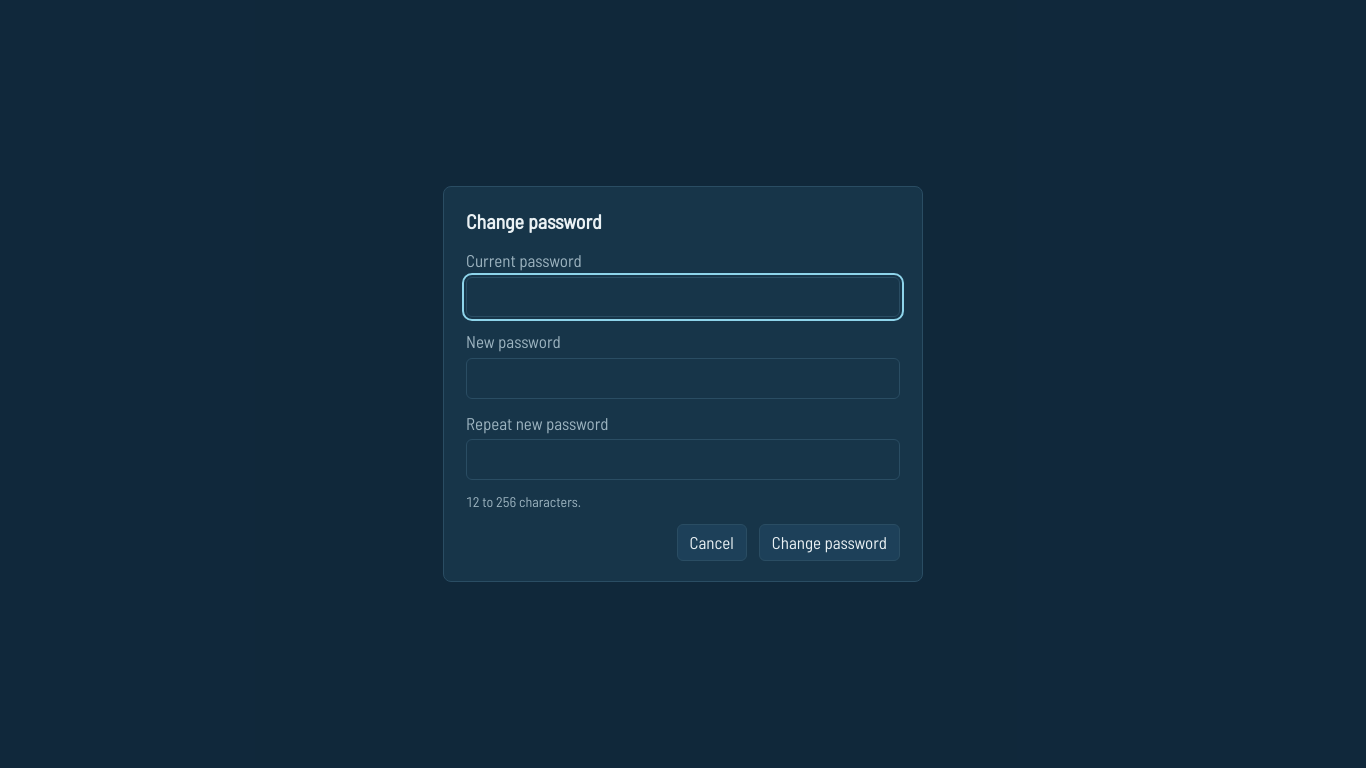
Test: PasswordDialog › refuses two passwords that differ without a request
Type "old-password" into the password field labelled "Current password" at (683, 297), box [466,277,900,317]
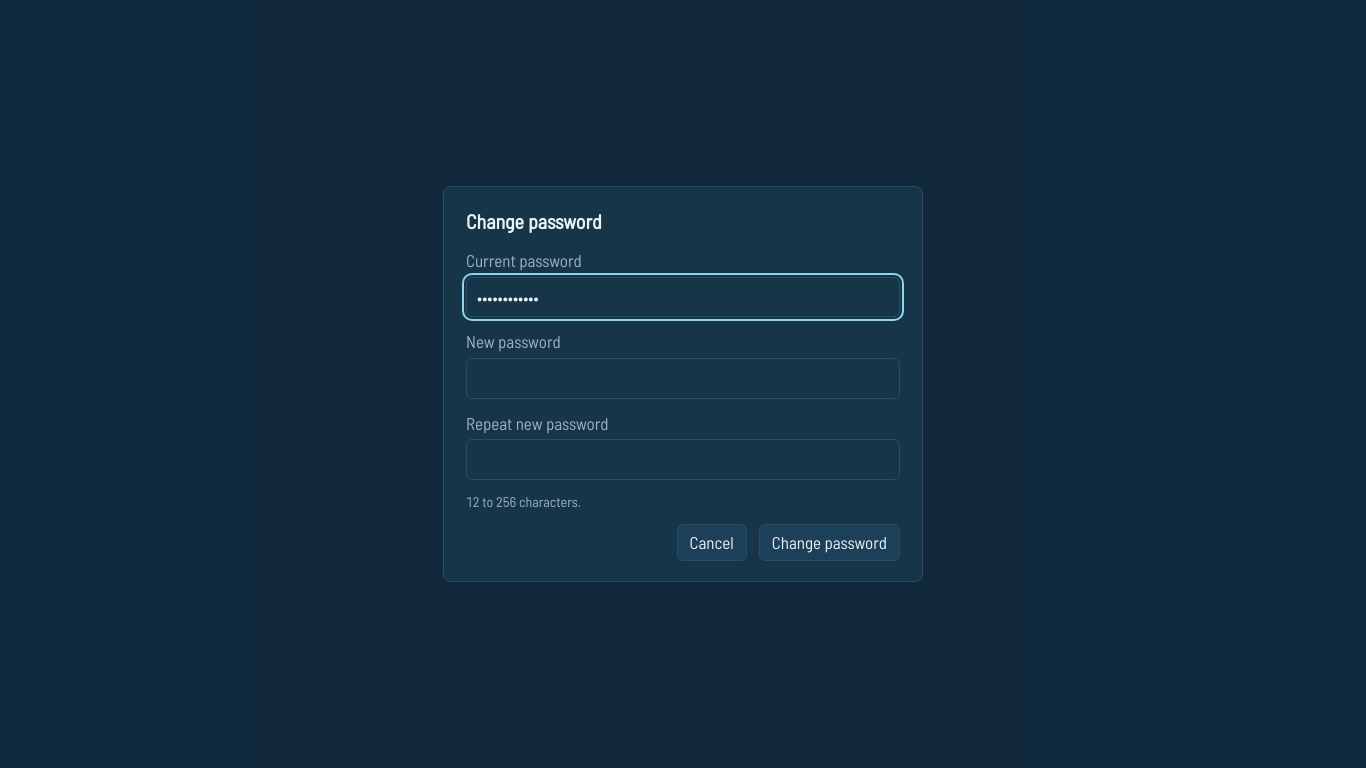
Type "a-long-new-password" into the password field labelled "New password" at (683, 378), box [466,358,900,399]
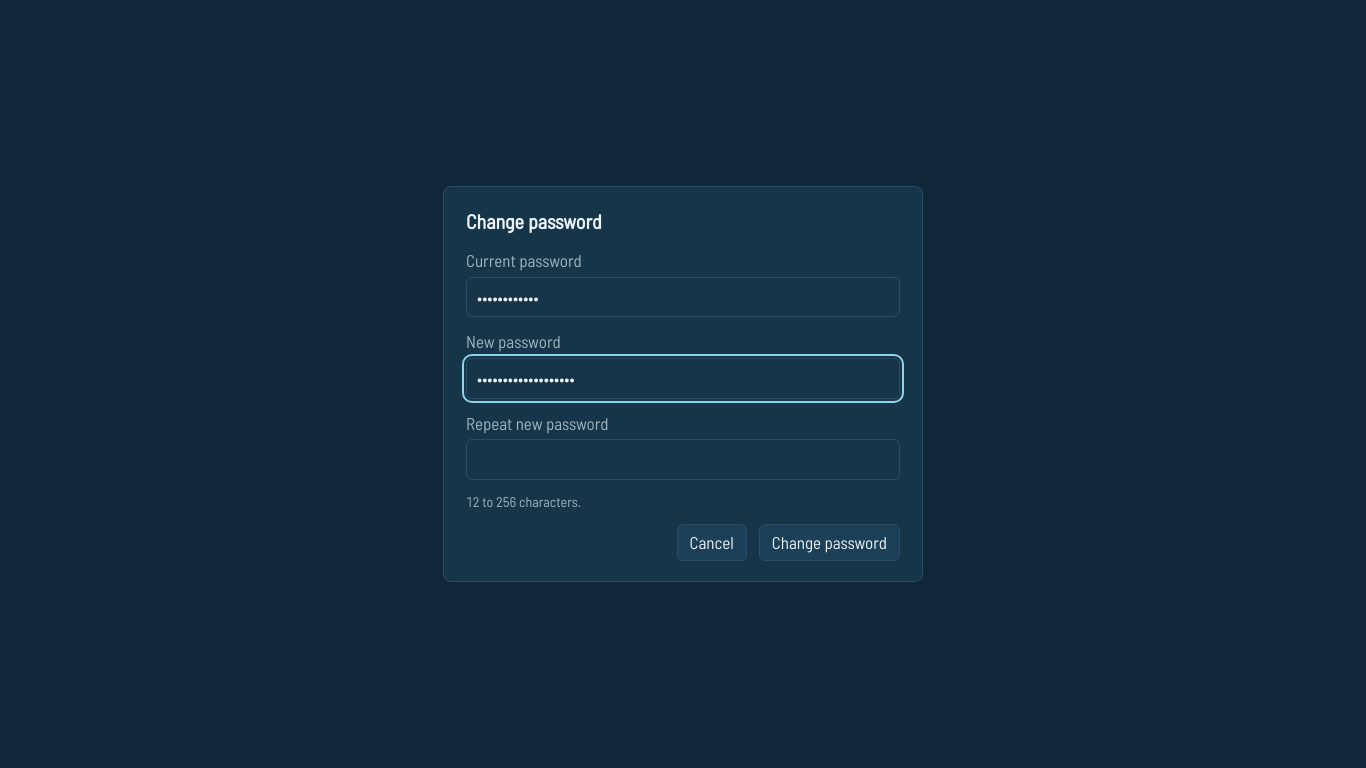
Type "another-long-password" into the password field labelled "Repeat new password" at (683, 460), box [466,439,900,480]
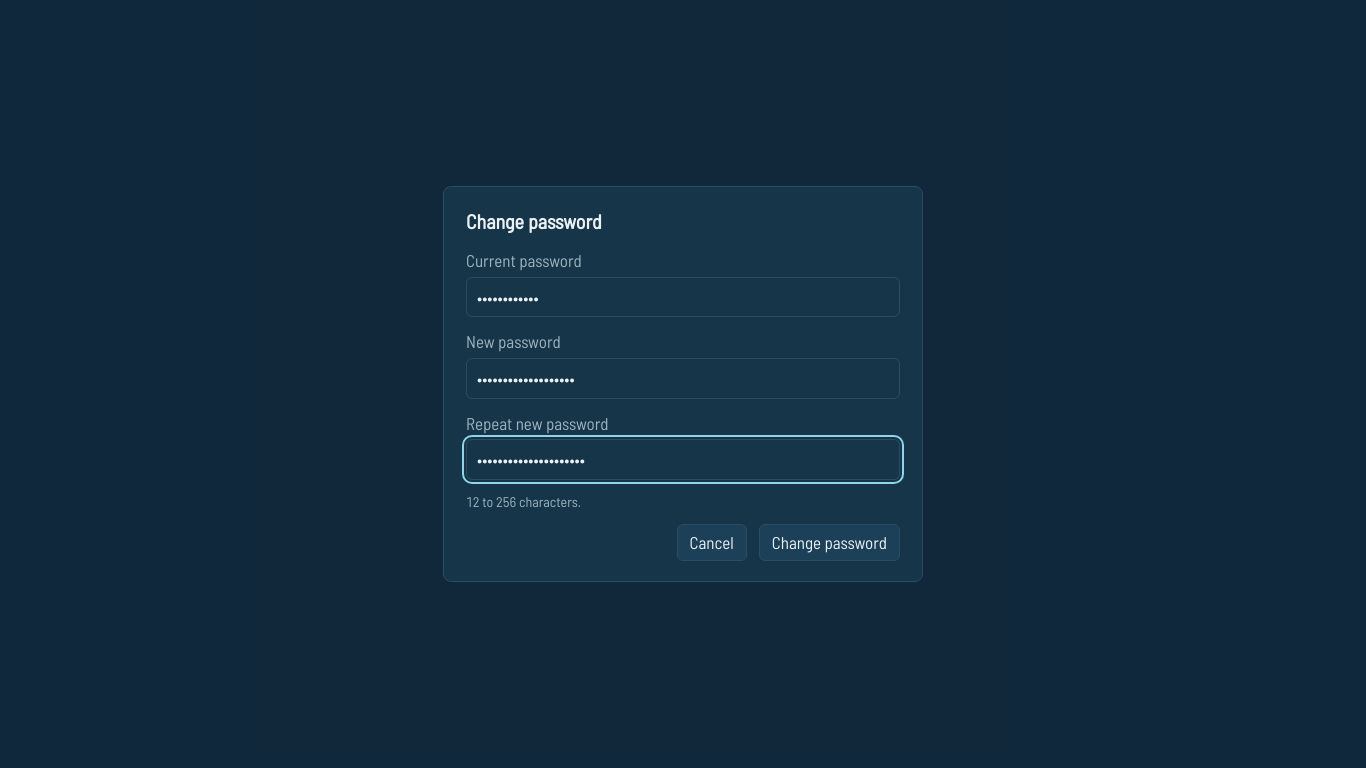
Click the button "Change password" at (829, 543), box [759,524,900,561]
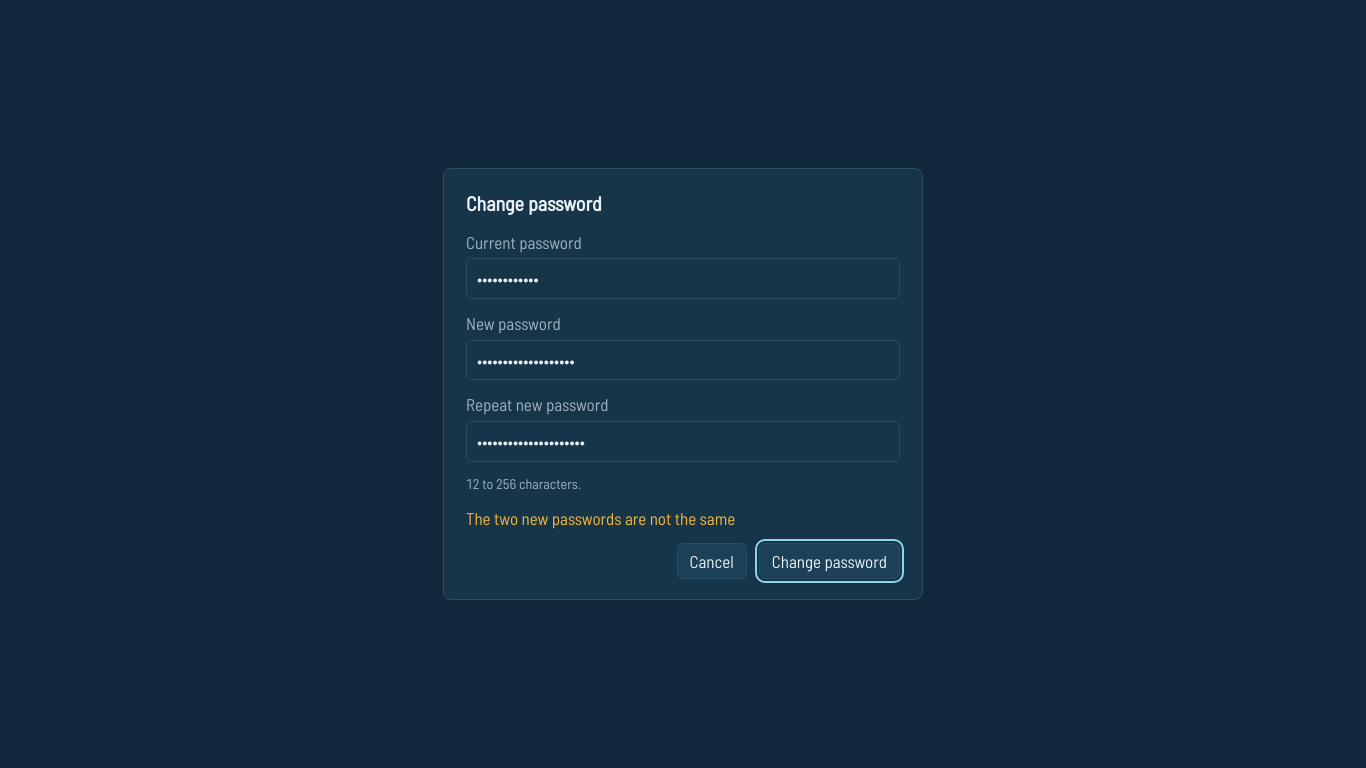
Expected: the text "The two new passwords are not the same" is shown, [466,508,735,528]
